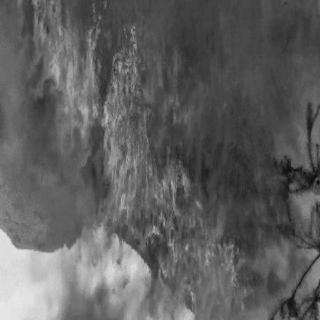Fire: (100, 139, 252, 315), (10, 7, 146, 173)
